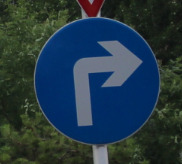right_turn: (33, 17, 160, 145)
